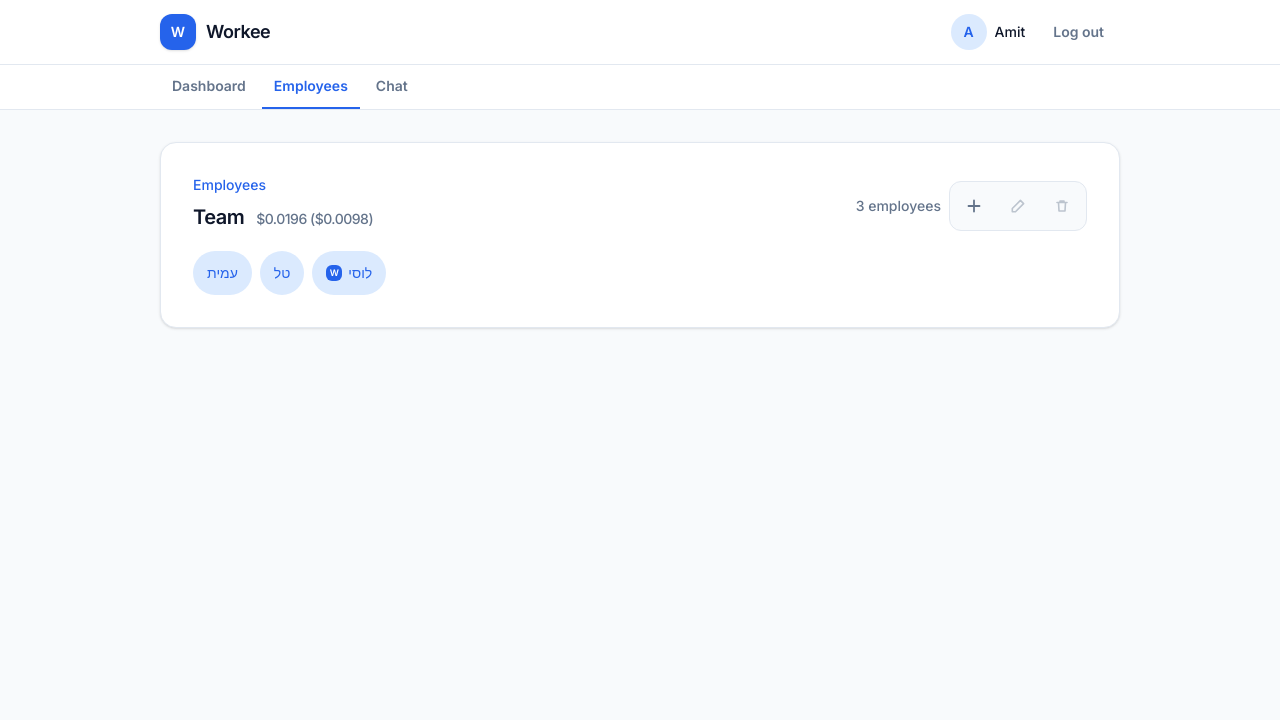
Test: Employees page › shows model, temperature, and instructions for a digital employee
The width and height of the screenshot is (1280, 720).
Click the button named "Add employee": (974, 206) [952,184,996,228]
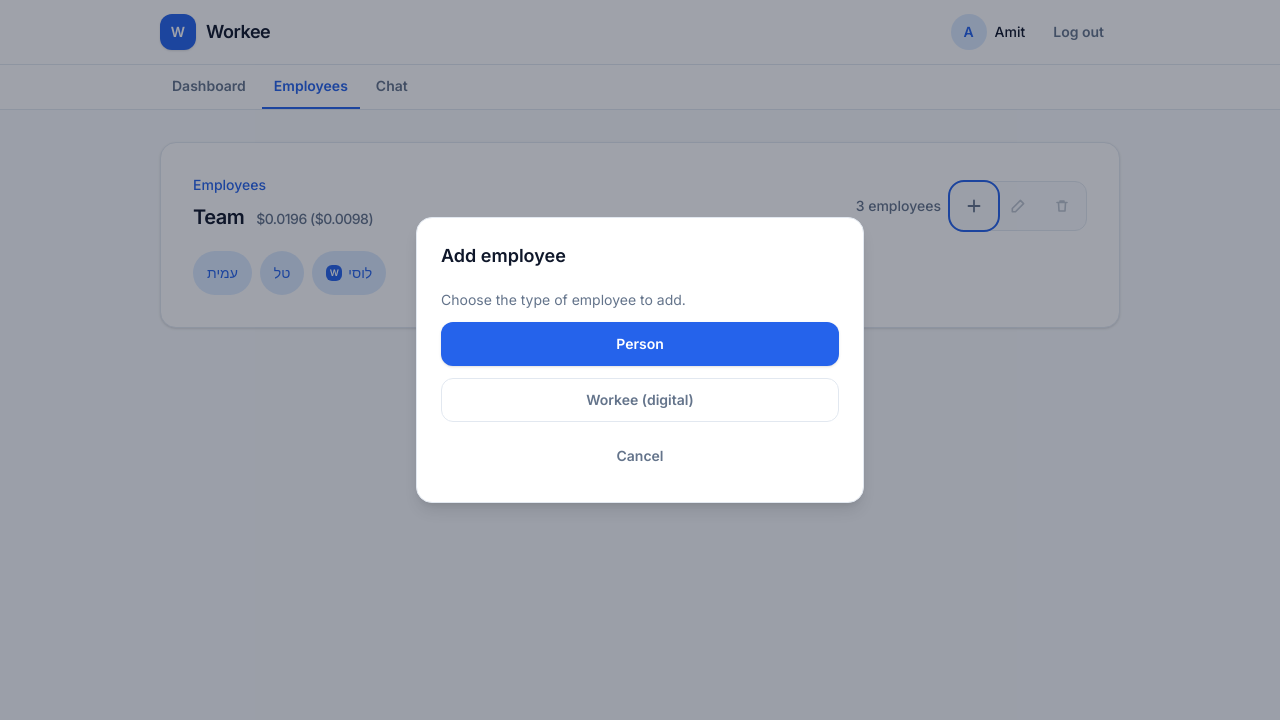
Click the button "Workee (digital)": (640, 400) [441,378,839,422]
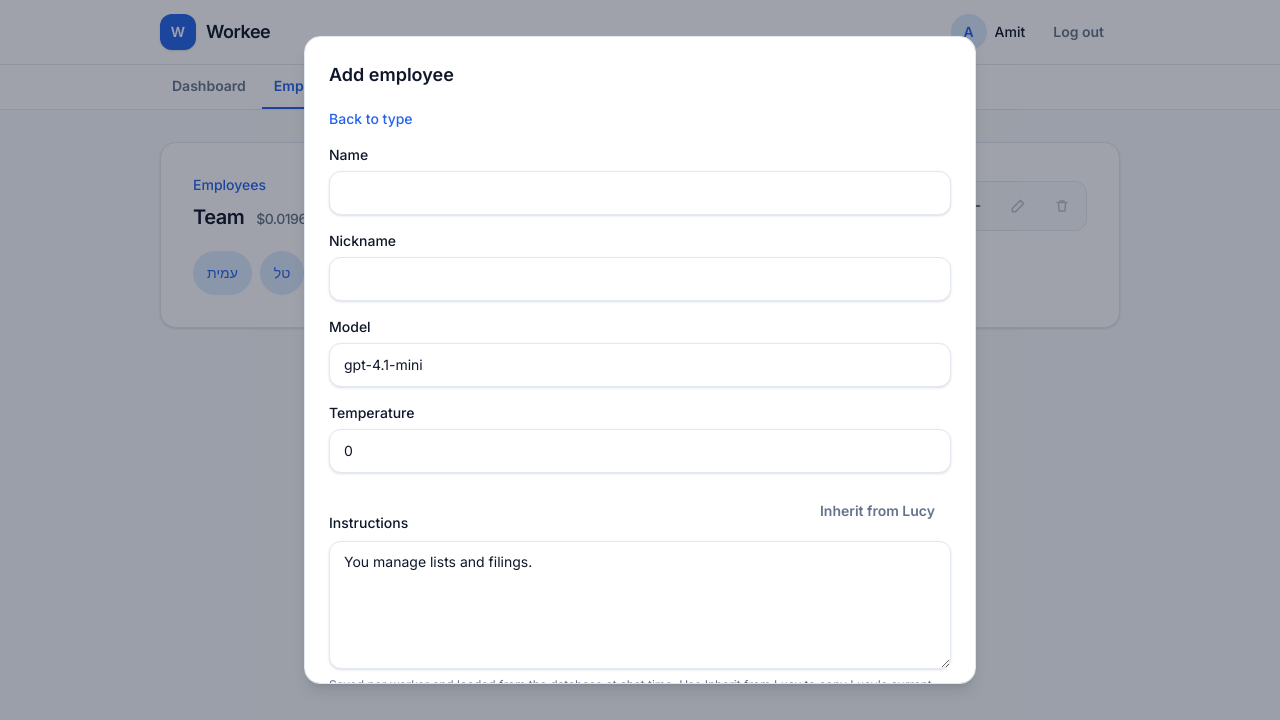
expect the field labelled "Nickname" is shown: met, box [329,257,951,301]
expect the field labelled "Model" holds "gpt-4.1-mini": met, box [329,343,951,387]
expect the number field labelled "Temperature" holds "0": met, box [329,429,951,473]
